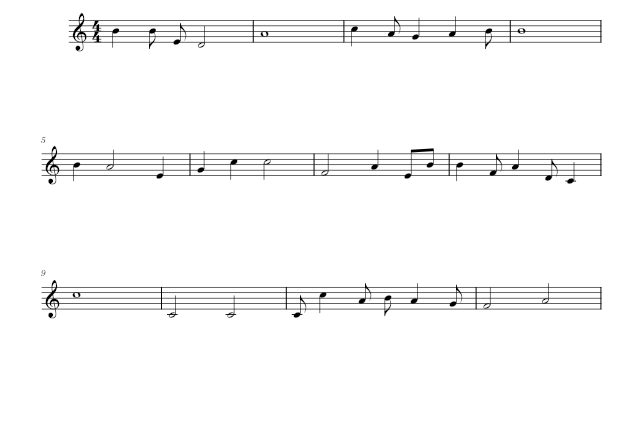Treble Clef: (42, 278, 66, 324), (69, 8, 91, 55), (42, 144, 64, 189)
